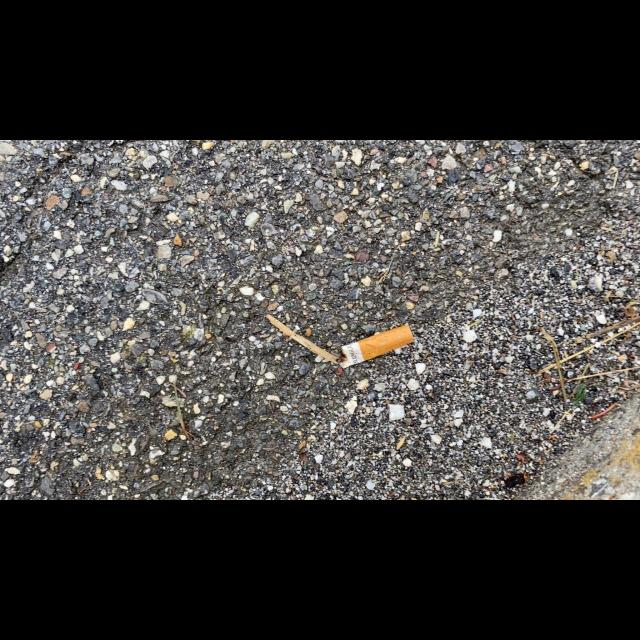cigarette: (336, 325, 414, 369)
